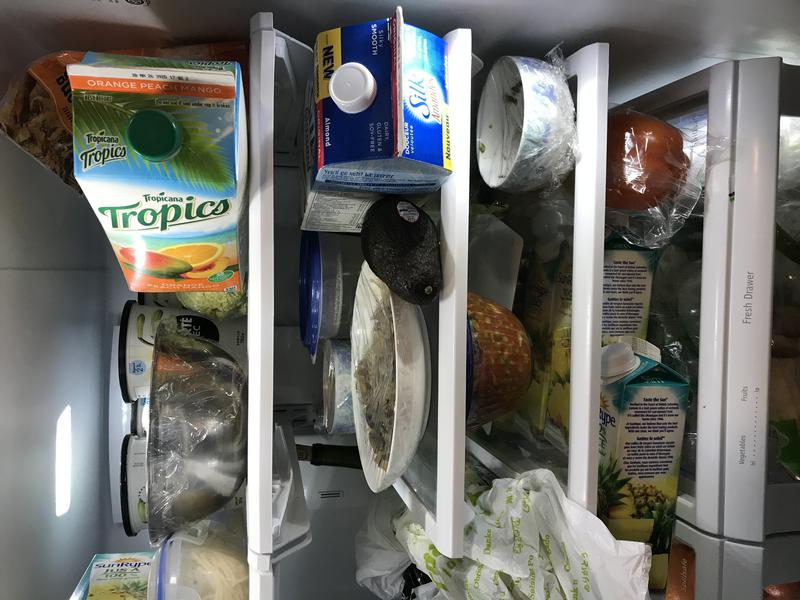avacado: (357, 196, 449, 306)
